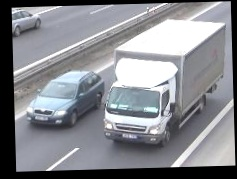truck: (102, 18, 228, 147)
